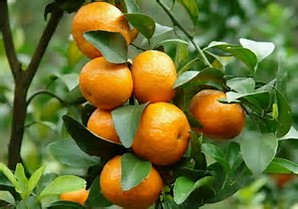orange: (185, 83, 251, 139), (99, 150, 163, 207), (70, 1, 133, 56), (129, 99, 188, 157), (73, 57, 132, 105), (126, 47, 177, 97), (83, 99, 122, 147)
